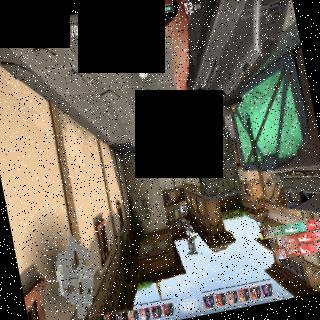ENEMY-BODY: (153, 148, 159, 158)
